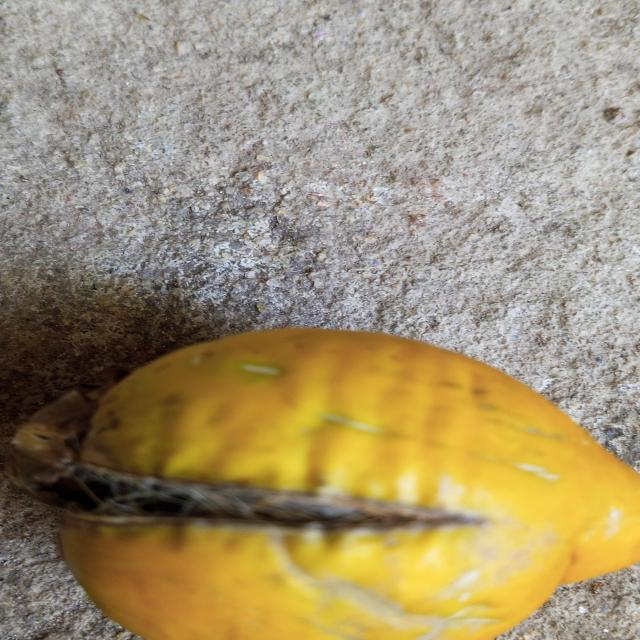damaged: (7, 328, 640, 640)
